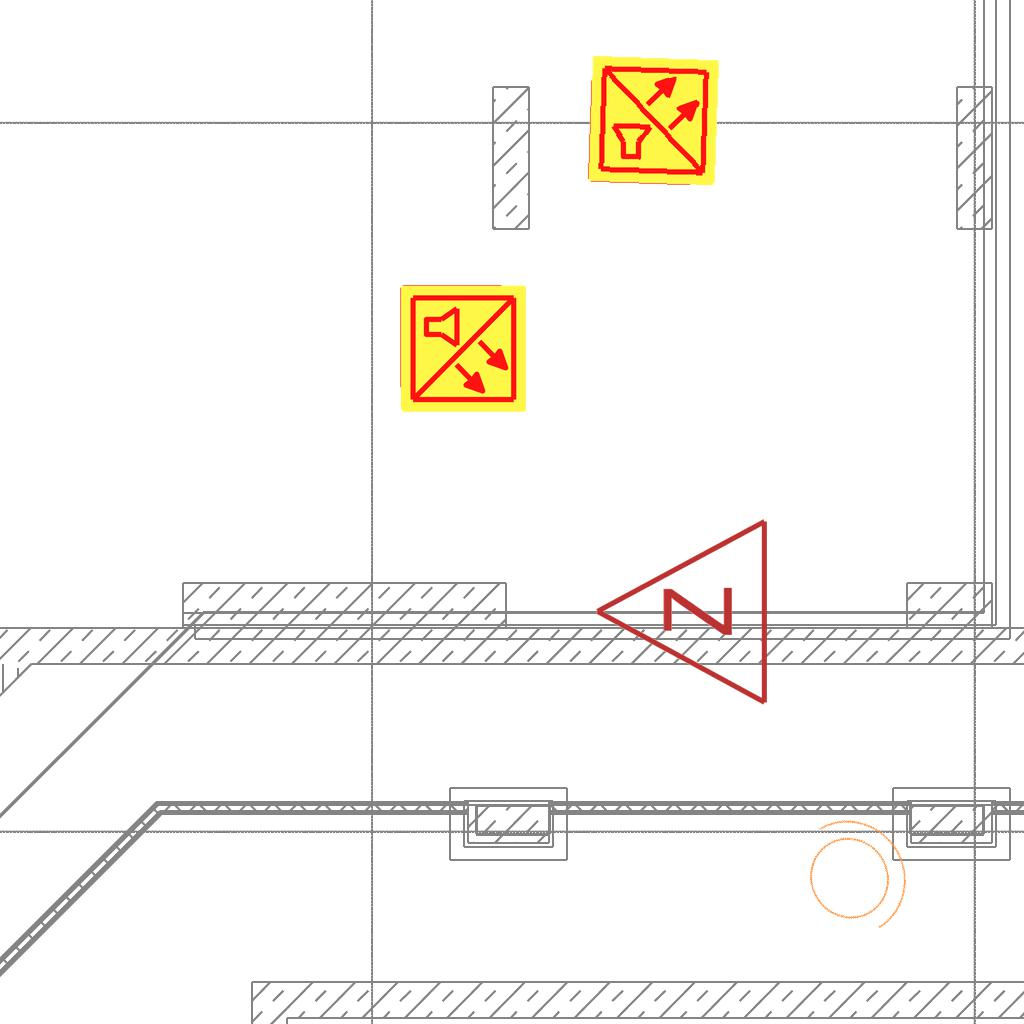OKW_Multisensormelder_(Kombination_optischer_Rauch-Kahlenmonoxid_Waerme-Melder): (585, 52, 723, 190), (397, 283, 529, 415)
Scheinwerfer_fuer_Alarmbeleuchtung: (770, 787, 934, 959)
Zimmersignalleuchte: (582, 516, 782, 712)
